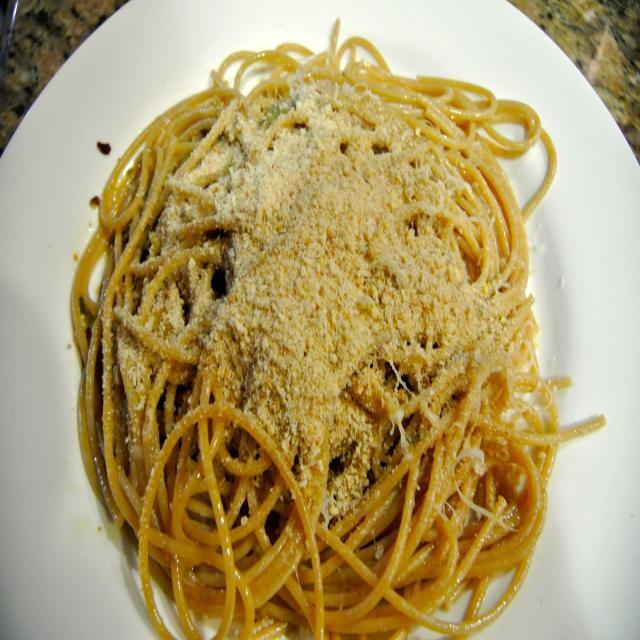Oil pasta: (70, 27, 599, 639)
